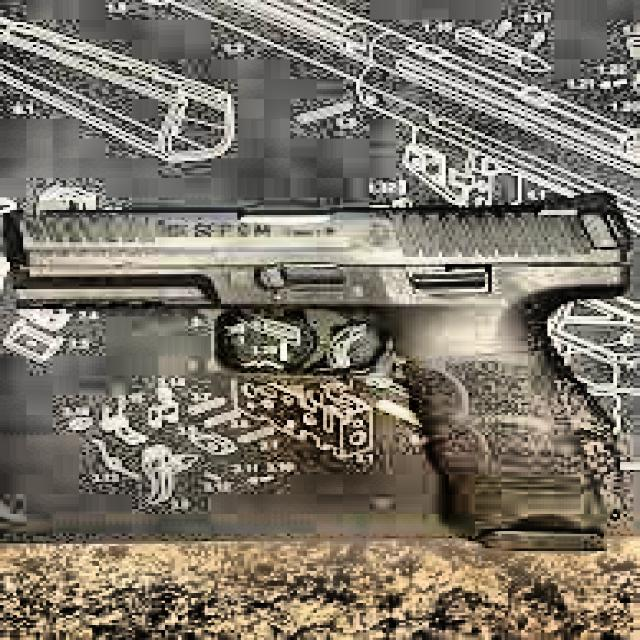HKVP9: (0, 188, 640, 554)
